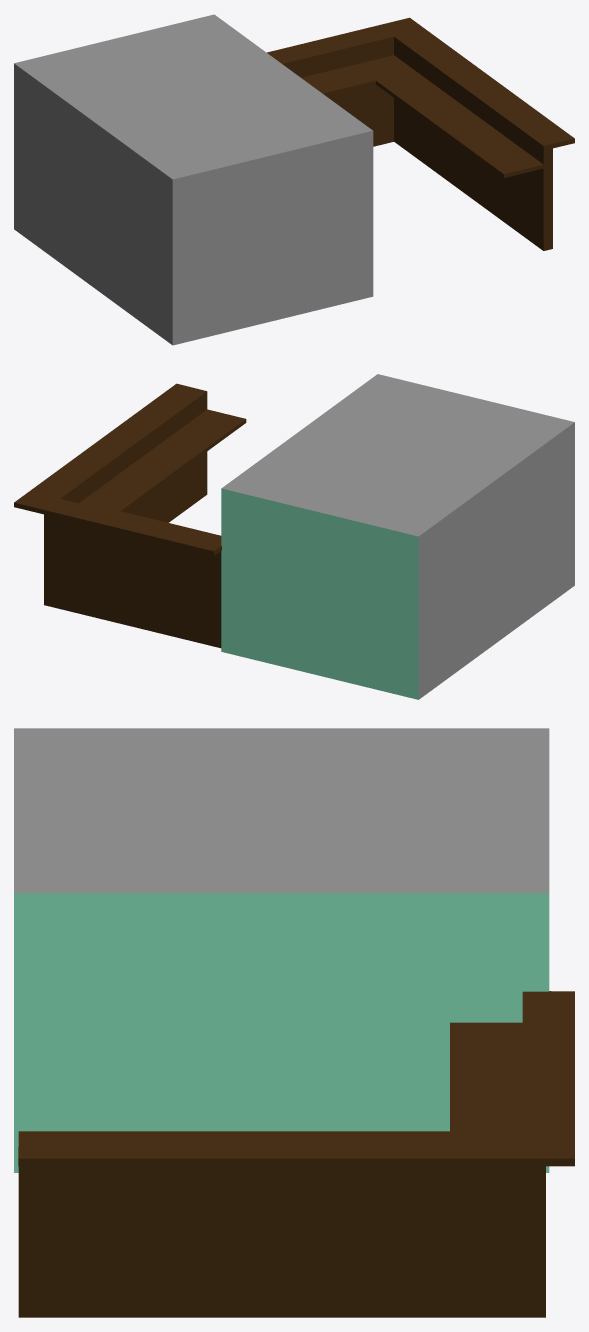
File: counter.FBX
The picture shows the model from 3 angles, top to bottom: view 1: azimuth 30°, elevation 25°; view 2: azimuth 150°, elevation 25°; view 3: azimuth 270°, elevation 25°; orthographic projection. The views are drawn at different scales.
Parts seen in each view (by area): view 1: Rooms15, Rooms13; view 2: Rooms15, Rooms13; view 3: Rooms15, Rooms13.
Boxes of the visible parts, box(x1,y1,x2,y2) form: Rooms15: box(14, 14, 373, 345); Rooms13: box(267, 17, 574, 250); Rooms15: box(221, 374, 574, 699); Rooms13: box(14, 383, 246, 648); Rooms15: box(14, 728, 549, 1172); Rooms13: box(18, 991, 574, 1317).
Size of the model in its own units: 22.58 by 8.88 by 16.14.
